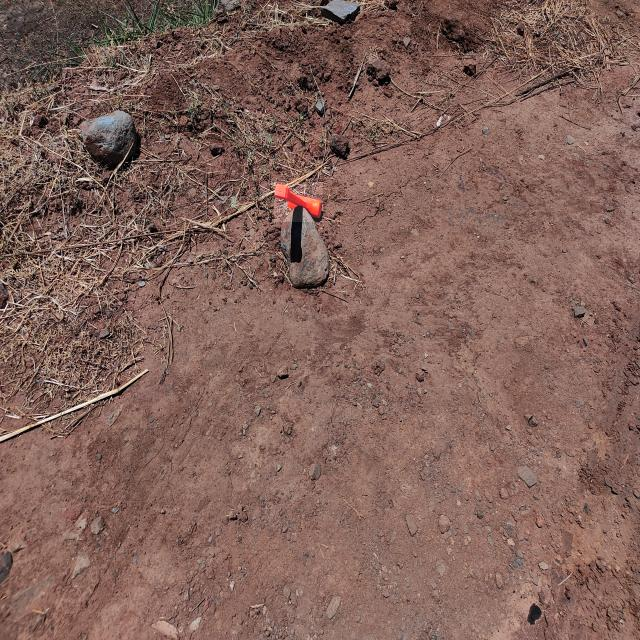Orange_hammer: (274, 182, 323, 222)
